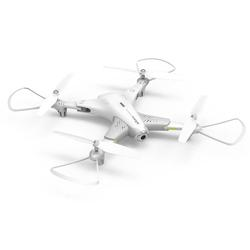drone: (7, 56, 246, 186)
